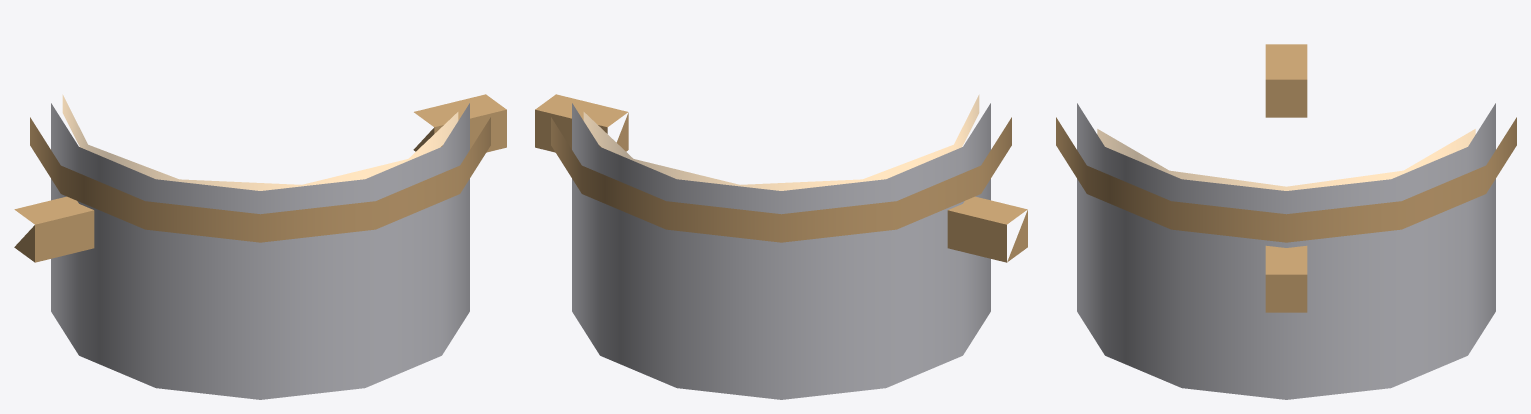
Rendered from ollas_cocinar.glb.
3 renders of one model, left to right at view 1: azimuth 30°, elevation 25°; view 2: azimuth 150°, elevation 25°; view 3: azimuth 270°, elevation 25°, orthographic.
Visible parts, largest first — view 1: Base, Accent, Glow; view 2: Base, Accent, Glow; view 3: Base, Accent, Glow.
Part boxes in pixels (x1,y1,x2,y2): Base: (51, 103, 469, 399); Accent: (14, 94, 506, 262); Glow: (62, 94, 458, 190); Base: (572, 103, 990, 399); Accent: (535, 94, 1027, 262); Glow: (583, 94, 979, 190); Base: (1077, 103, 1495, 399); Accent: (1056, 44, 1516, 312); Glow: (1097, 129, 1475, 190).
Bounding box in the file's own units: 0.52 × 0.22 × 0.44.
